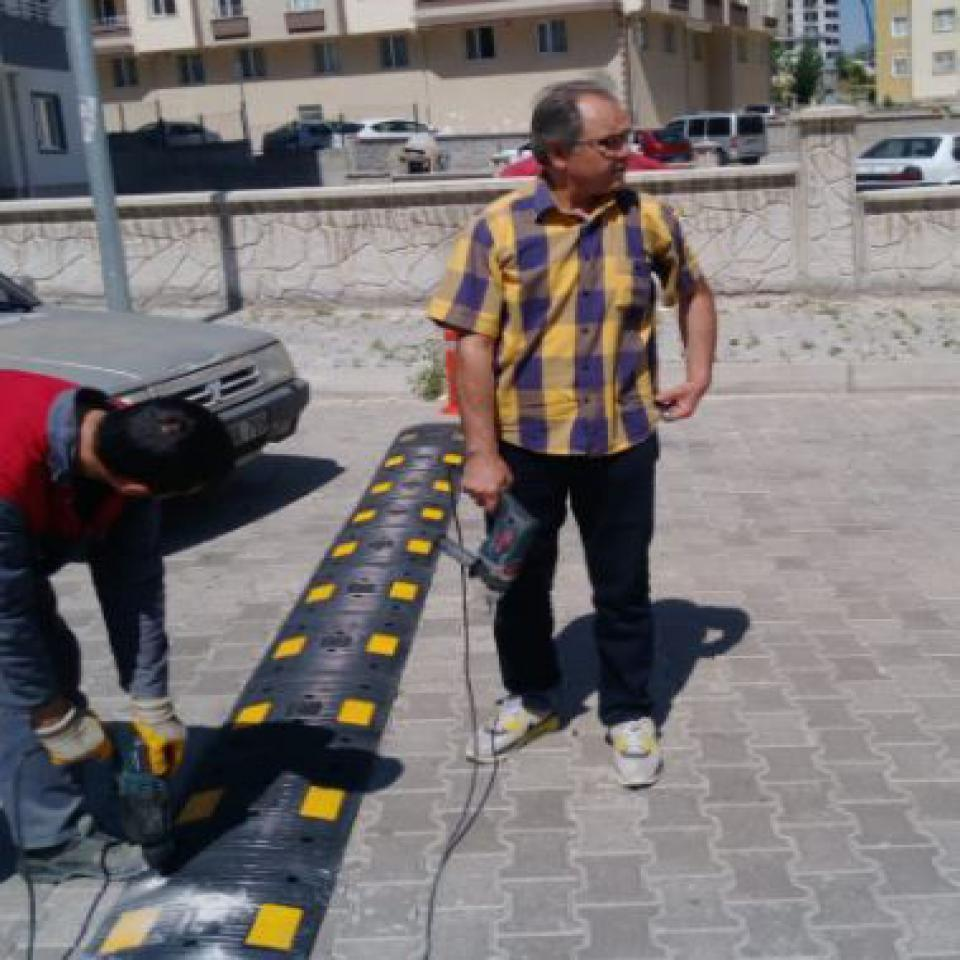Speed_Breaker: (53, 413, 471, 957), (62, 420, 462, 948)
